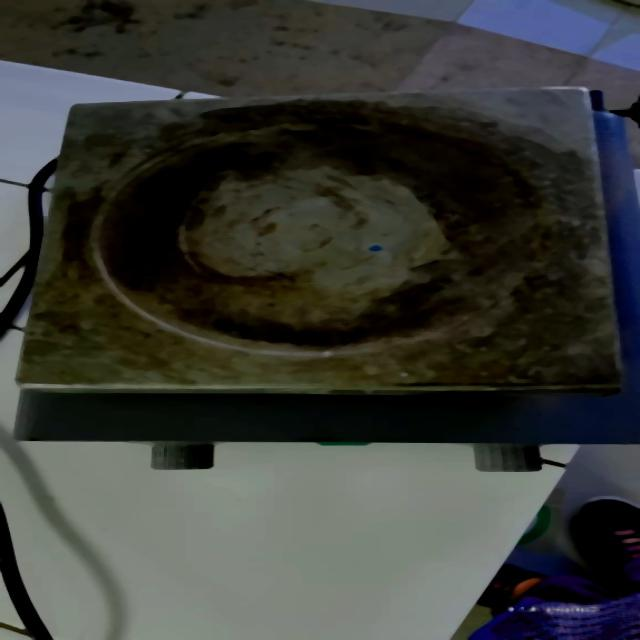Magnetic Stirrer: (13, 88, 620, 480)
